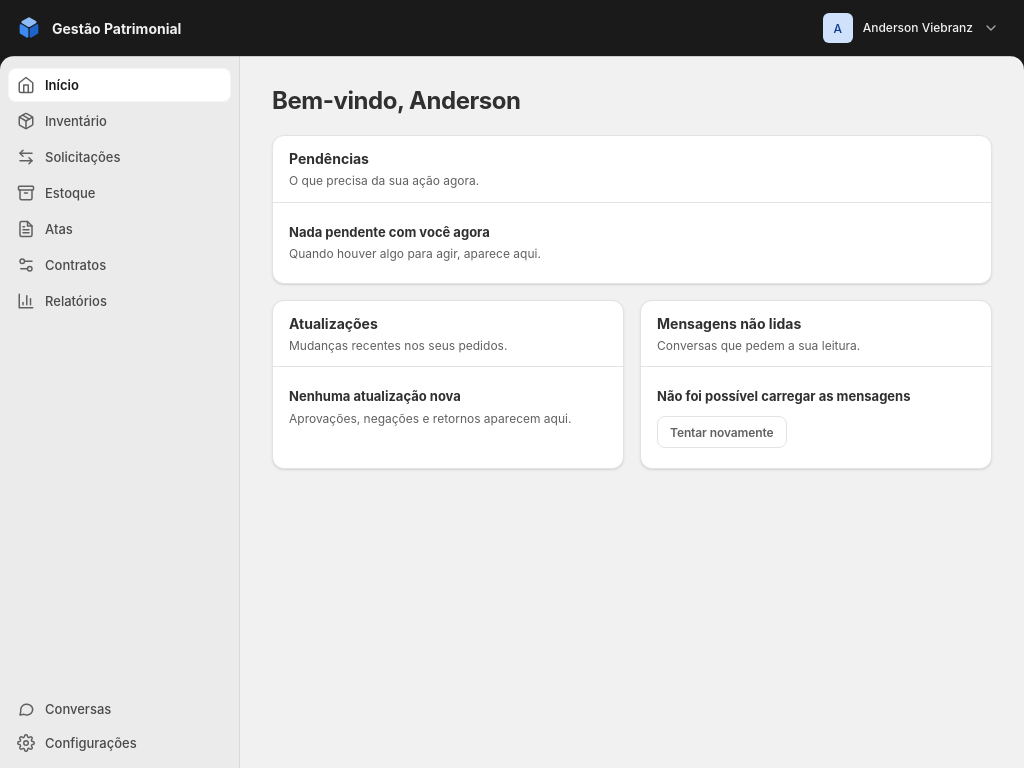
it: Relatórios (Administrador) › Cessões de Uso: mostra cards de resumo (inclui valor total cedido) e a tabela
The width and height of the screenshot is (1024, 768).
Expected: the heading "Bem-vindo, Anderson" is shown, left=272, top=88, right=521, bottom=115
Click the link "Relatórios".
click(62, 301)  # box left=17, top=292, right=107, bottom=310
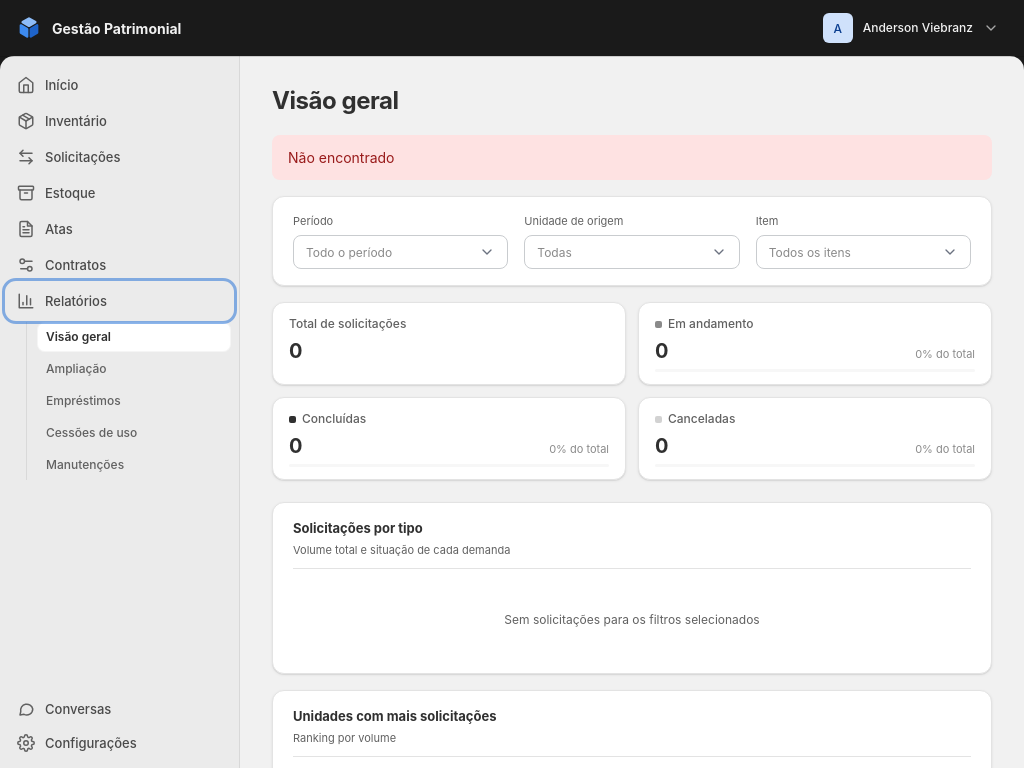
Now the heading "Visão geral" is shown, box left=272, top=88, right=399, bottom=115
Click the link "Cessões de uso".
click(92, 432)  # box left=46, top=425, right=137, bottom=440
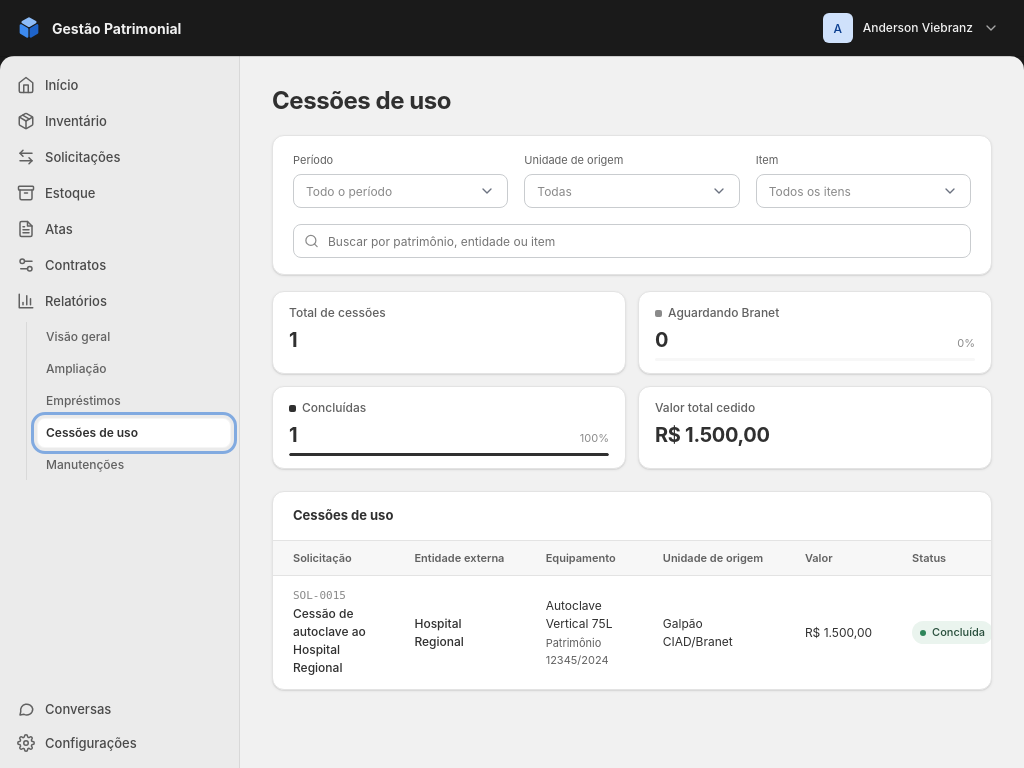
Now the 1st heading "Cessões de uso" is shown, box left=272, top=88, right=451, bottom=115
Now the text "Valor total cedido" is shown, box left=655, top=400, right=755, bottom=415
Now the text "Hospital Regional" is shown, box left=394, top=576, right=526, bottom=689
